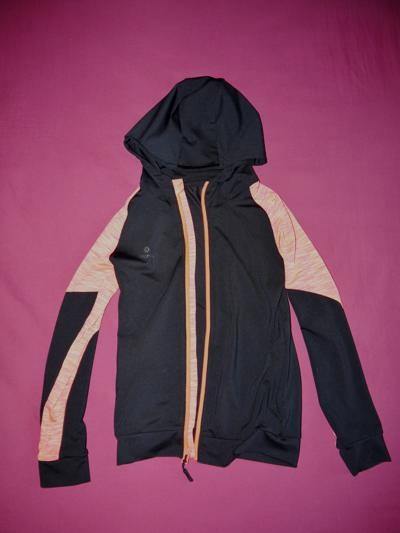Hoodie: (12, 83, 394, 497)
